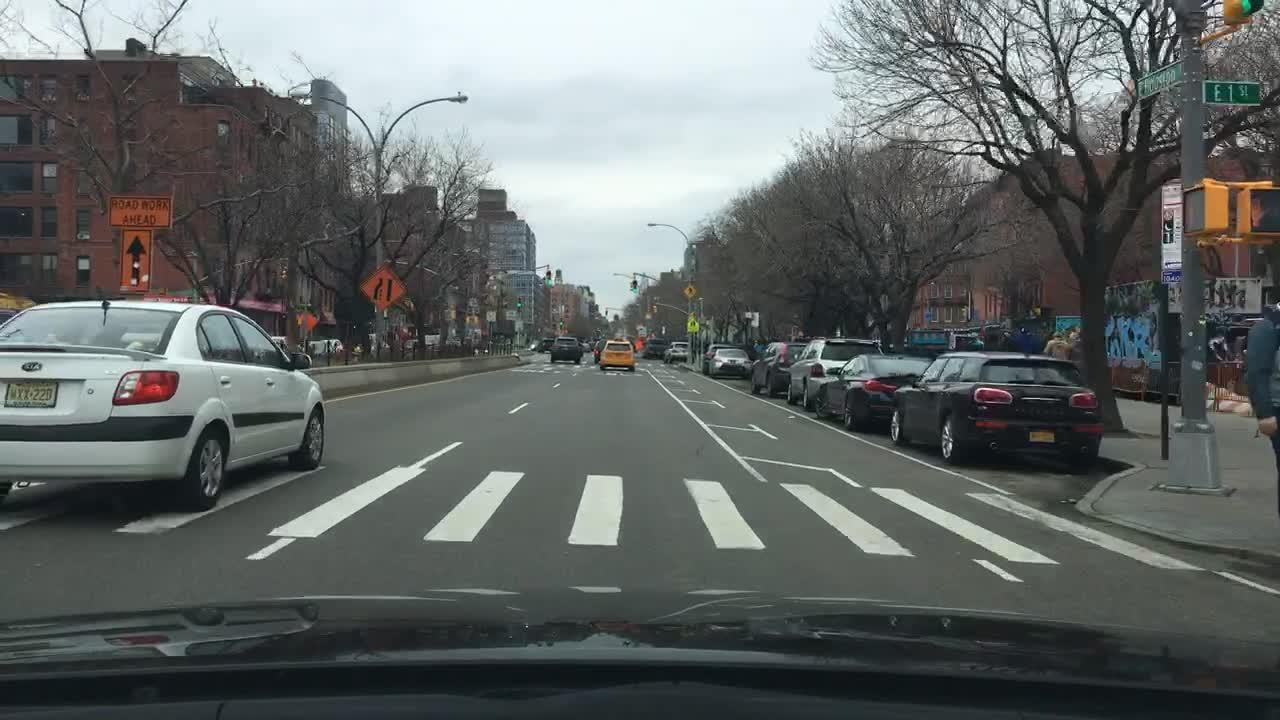kia: (20, 358, 48, 373)
